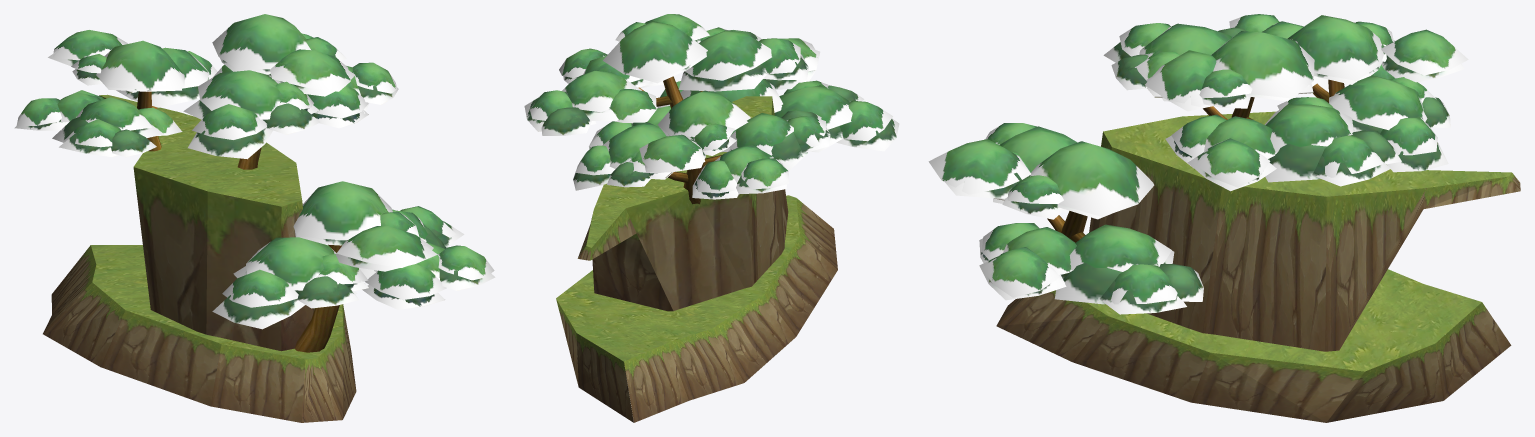
File: gonghui_daoyu_02 (2).fbx
3 renders of one model, left to right at view 1: azimuth 30°, elevation 25°; view 2: azimuth 150°, elevation 25°; view 3: azimuth 270°, elevation 25°, orthographic. The views are drawn at different scales.
Parts seen in each view (by area): view 1: gonghui_daoyu_02 (2); view 2: gonghui_daoyu_02 (2); view 3: gonghui_daoyu_02 (2).
Part boxes in pixels (left/top/right/bottom): gonghui_daoyu_02 (2): left=14, top=14, right=495, bottom=422; gonghui_daoyu_02 (2): left=524, top=14, right=899, bottom=422; gonghui_daoyu_02 (2): left=928, top=14, right=1520, bottom=422.
Bounding box in the file's own units: 5.76 × 5.74 × 8.35.
